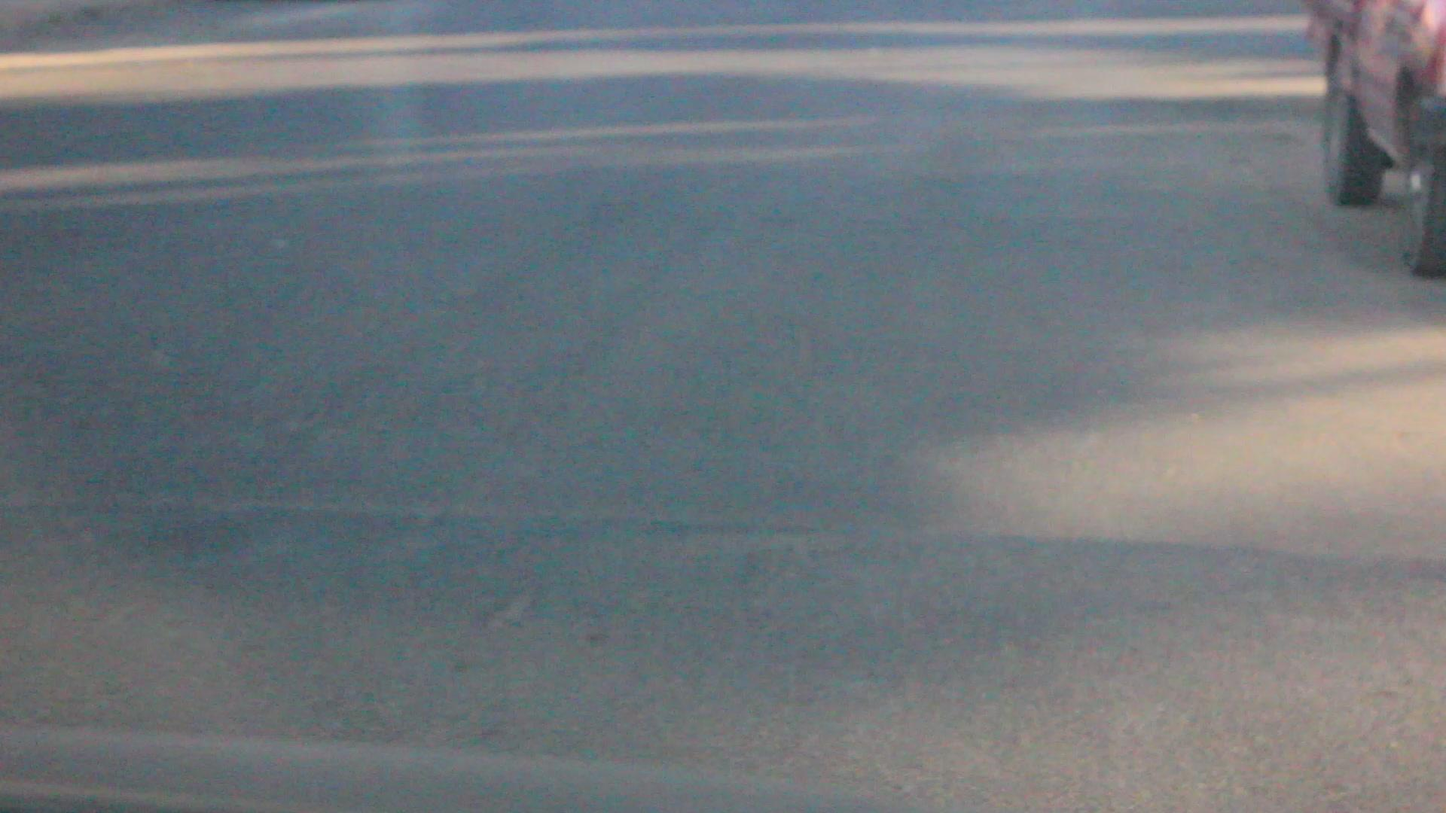Bump: (41, 465, 1435, 813)
